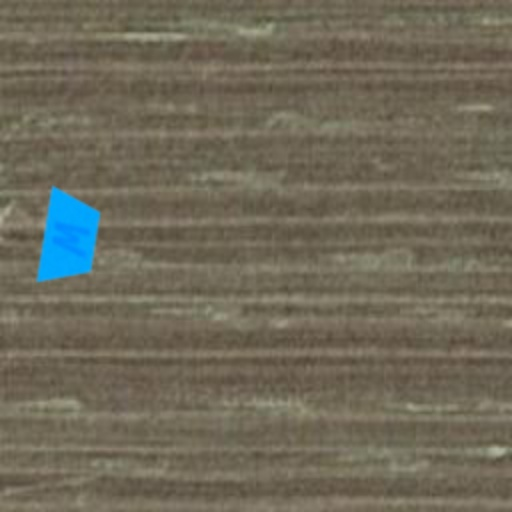trapezoid: (12, 180, 128, 296)
